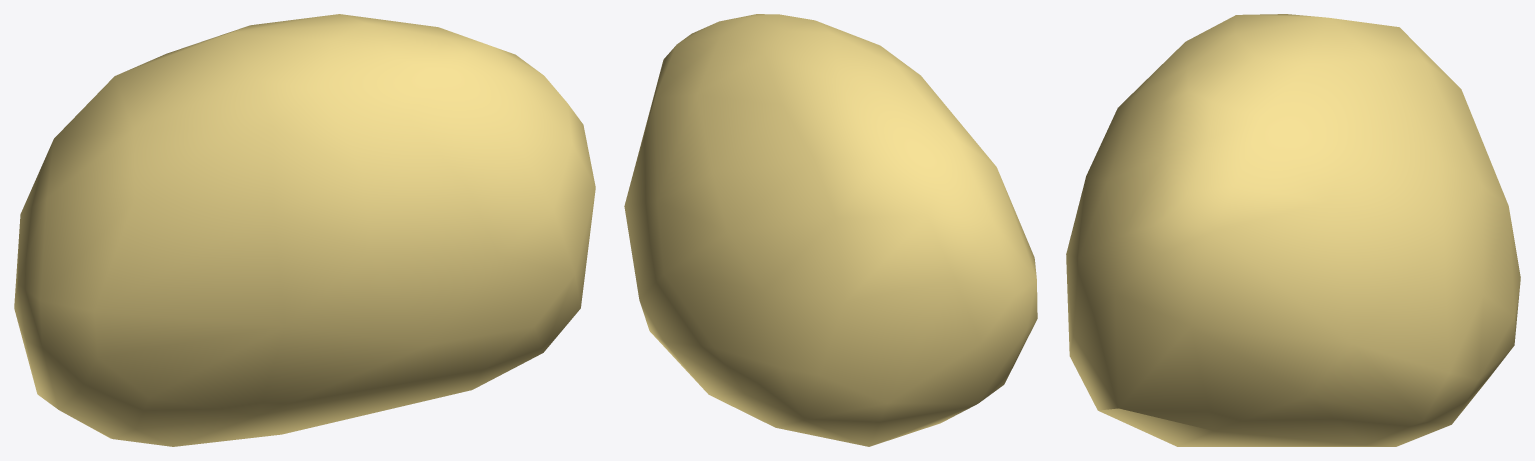
Rendered from fma73423_fj1779.glb.
The picture shows the model from 3 angles, left to right: view 1: azimuth 30°, elevation 25°; view 2: azimuth 150°, elevation 25°; view 3: azimuth 270°, elevation 25°; orthographic projection. The views are drawn at different scales.
Parts seen in each view (by area): view 1: FMA73423_FJ1779; view 2: FMA73423_FJ1779; view 3: FMA73423_FJ1779.
Part boxes in pixels (x1,y1,x2,y2): FMA73423_FJ1779: (14, 14, 595, 446); FMA73423_FJ1779: (624, 14, 1037, 446); FMA73423_FJ1779: (1066, 14, 1520, 446).
Size of the model in its own units: 0.00776 by 0.006 by 0.00604.
